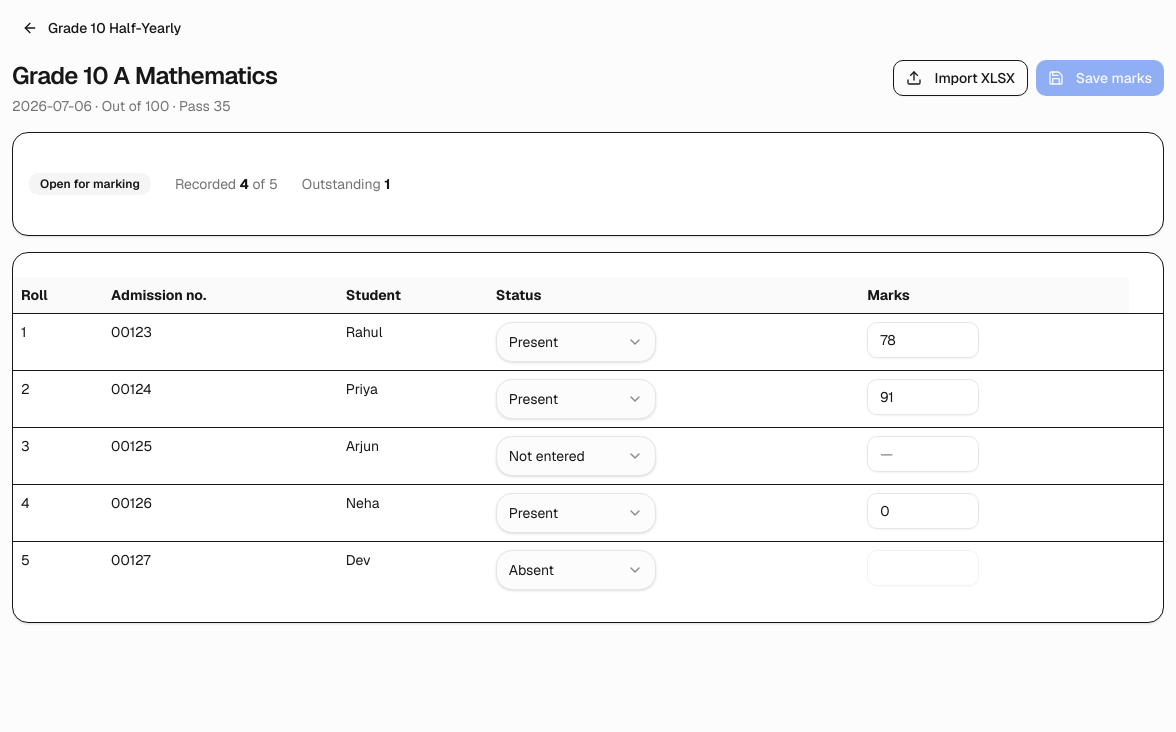
Test case: marks register › shows the server's register after a save, not its own guess
Expected: the text "Rahul" is shown, [338,314,488,370]
Type "55" into the field named "Marks for Arjun" at x=923, y=454, box [867,436,979,472]
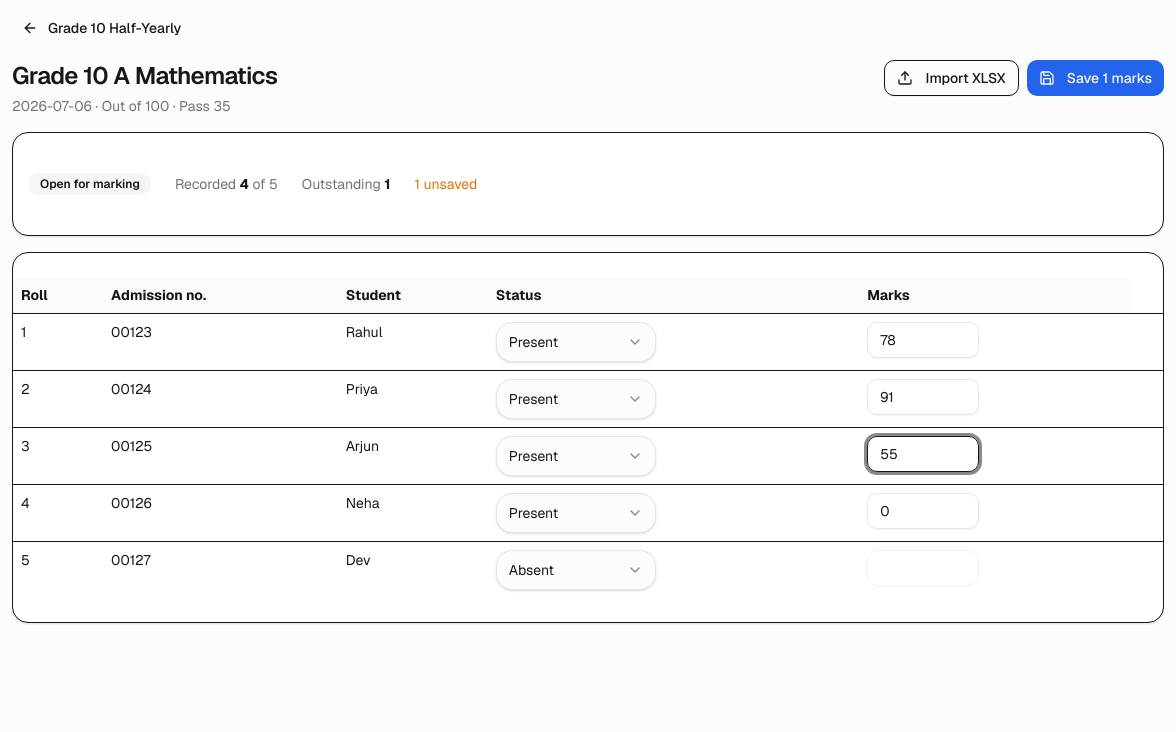
Click the button "Save 1 marks" at x=1095, y=78, box [1027,60,1164,96]
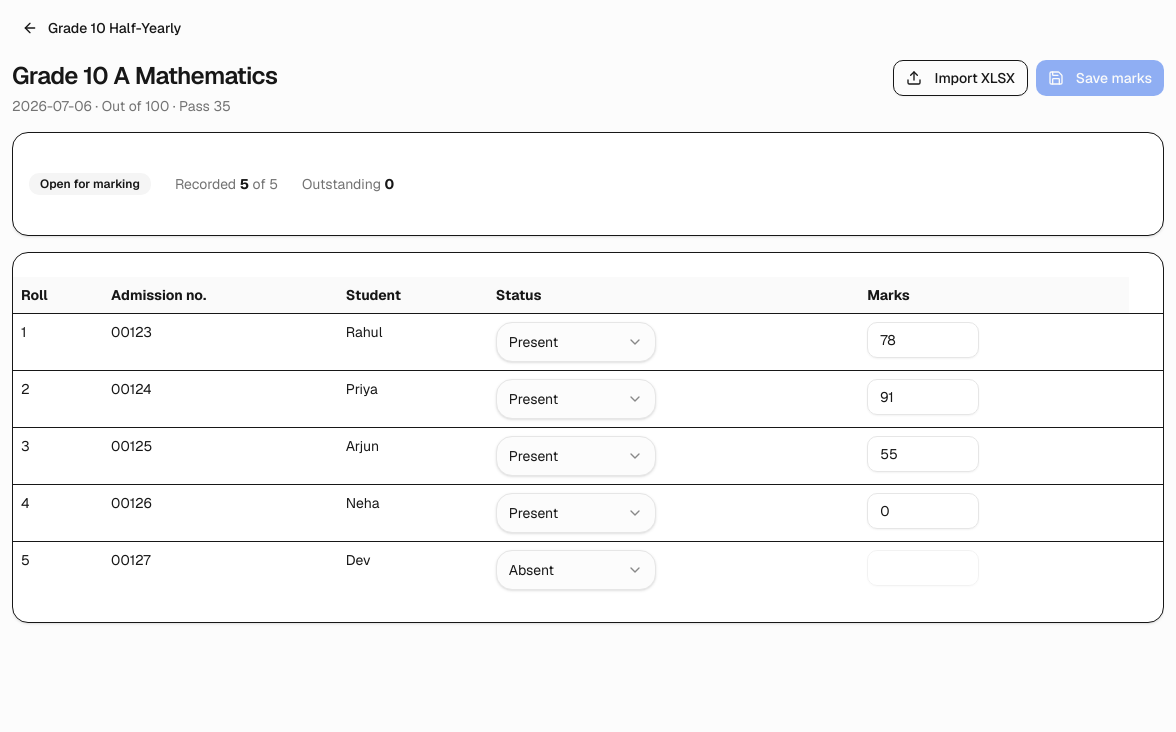
Expected: the text with test id "outstanding" reads "0", [384,175,394,193]
Expected: the text with test id "dirty-flag" is gone
